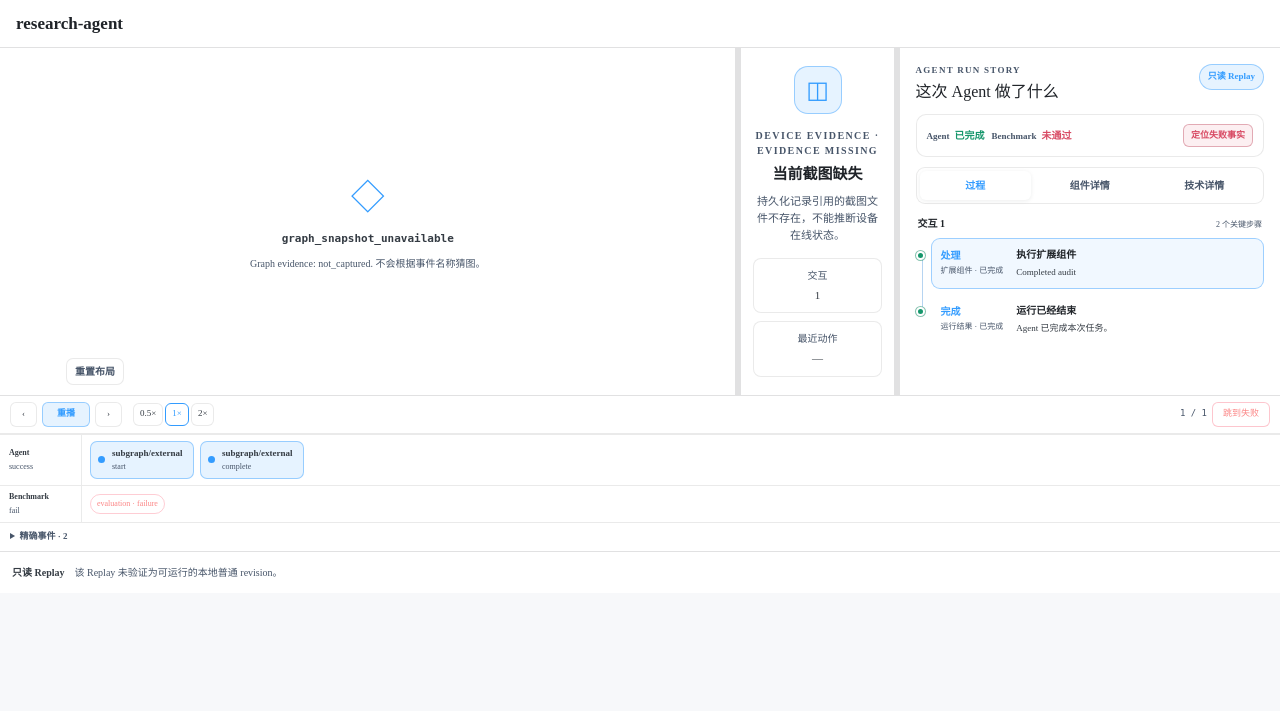
Test: ThreePaneReplayWorkbench › shows external activation evidence and missing current screenshot
Click the tab "技术详情" at (1204, 186), box [1148,171,1260,200]
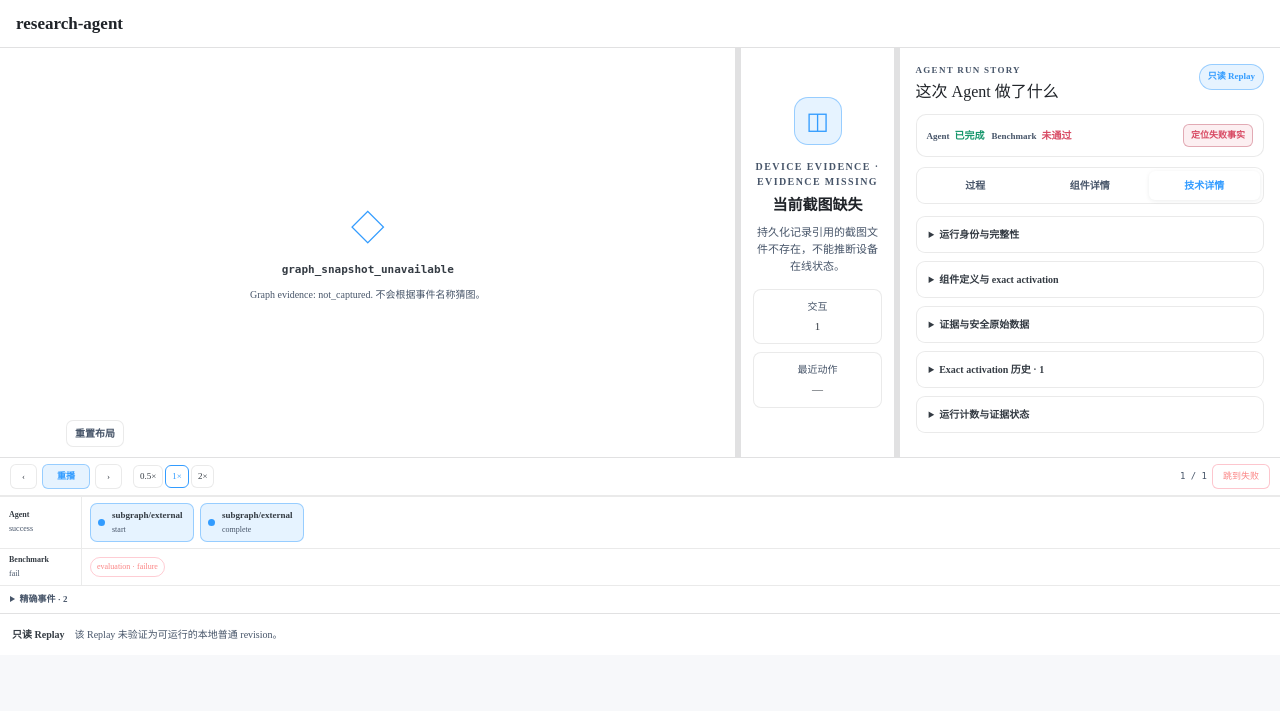
Click the heading "组件定义与 exact activation" at (999, 280), box [939,274,1059,285]
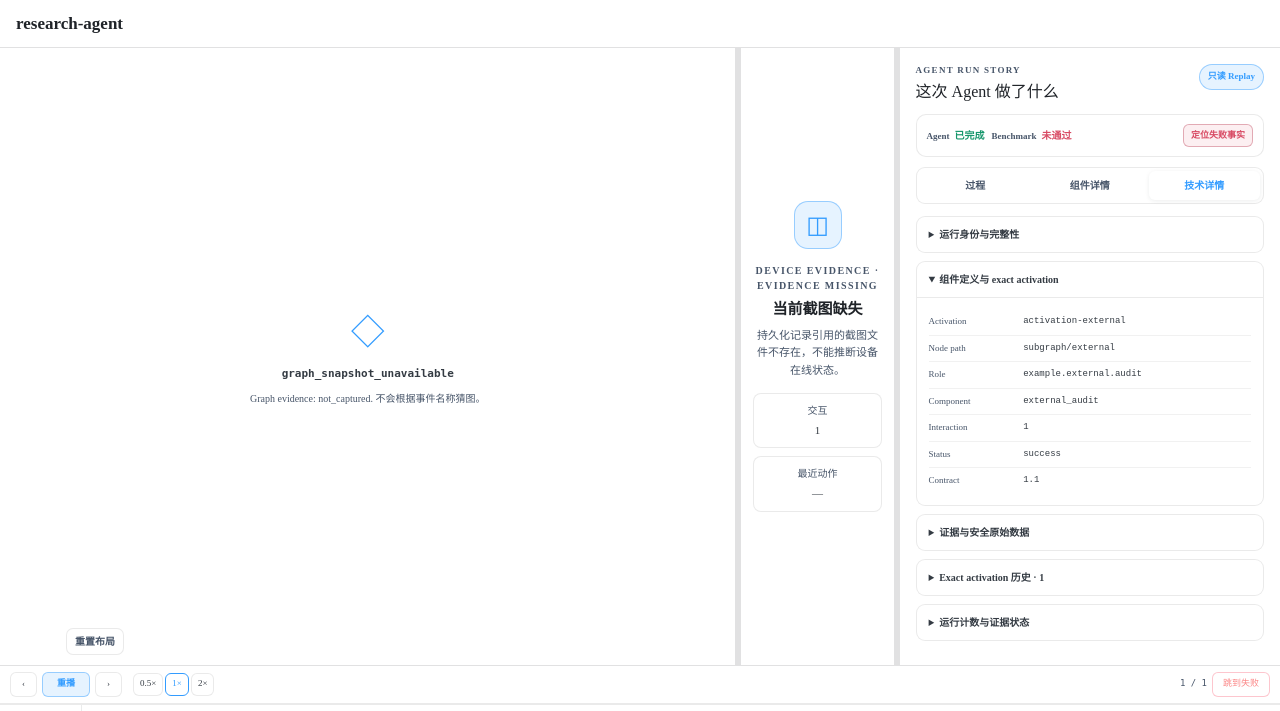
Click the heading "证据与安全原始数据" at (984, 532), box [939,526,1029,538]
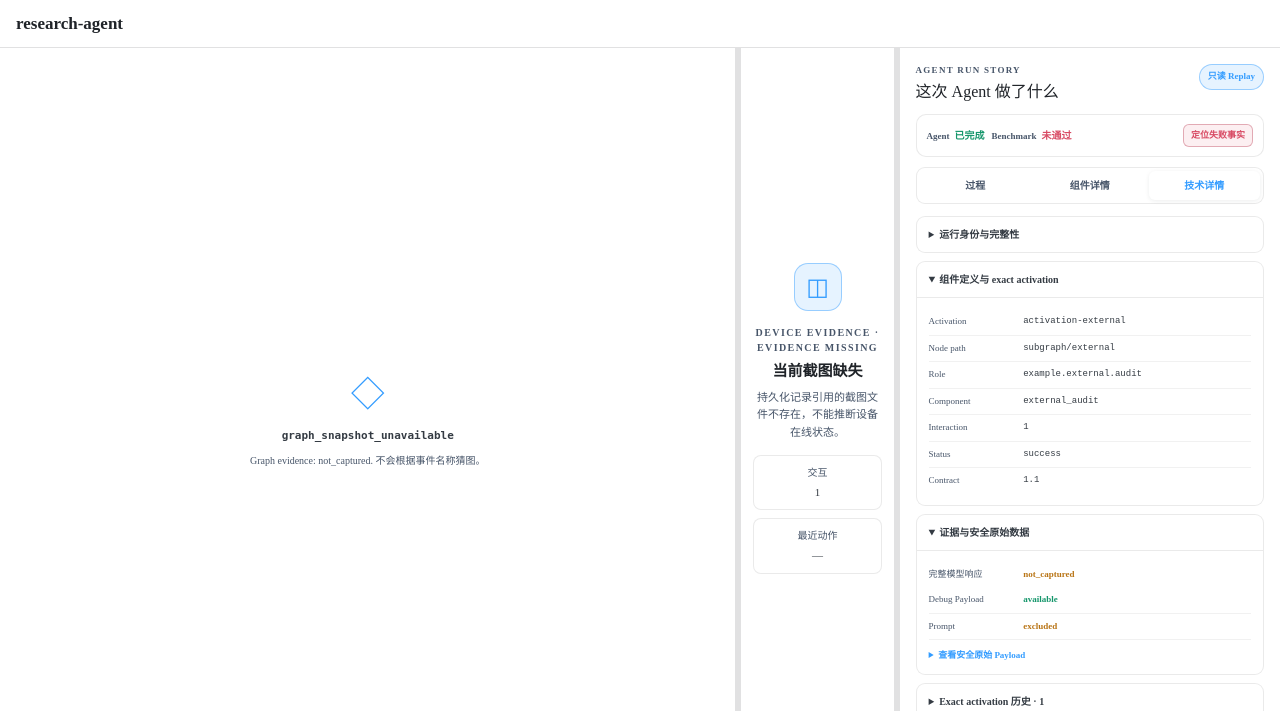
Check: the text "example.external.audit" is shown, box [1023,369,1142,379]
Check: the text "完整模型响应" is shown, box [929,568,983,578]
Check: the text "excluded" is shown, box [1023,620,1057,630]
